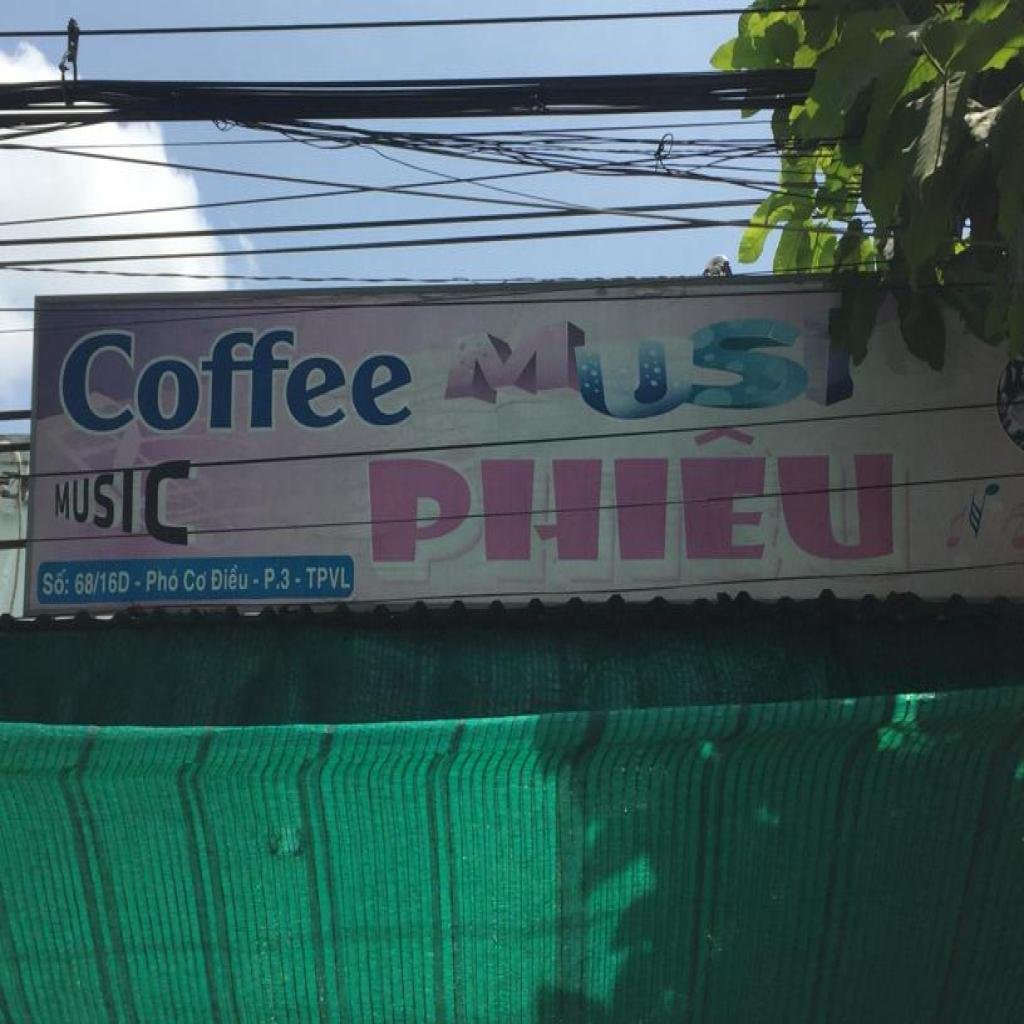text: (365, 415, 907, 582), (59, 325, 417, 440), (443, 316, 804, 408), (51, 457, 197, 547), (74, 568, 131, 598), (211, 564, 251, 594), (40, 566, 73, 602), (260, 564, 292, 597), (146, 566, 180, 596), (180, 566, 210, 598)
